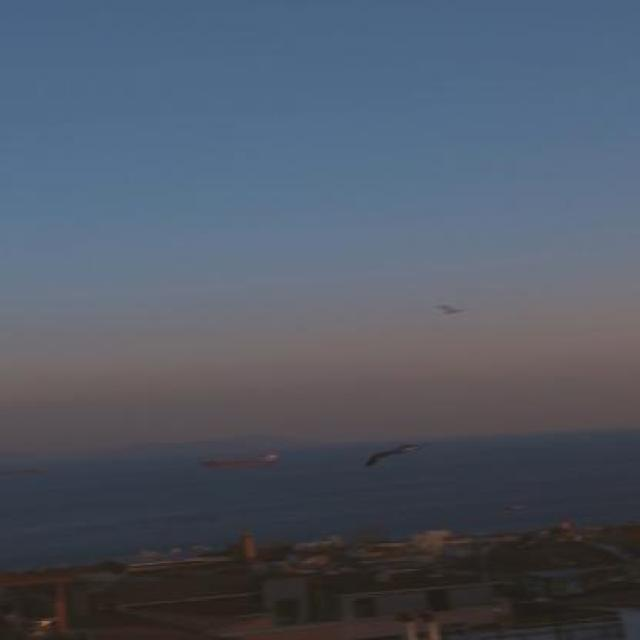bird: (336, 434, 439, 475), (416, 297, 484, 321)
